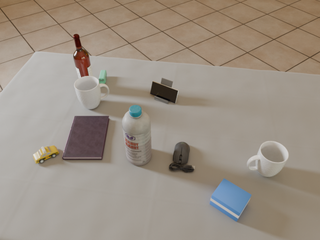book: (62, 116, 109, 160)
bottle: (122, 105, 152, 165), (73, 34, 93, 78)
box: (210, 179, 251, 221)
cup: (247, 141, 288, 177), (74, 76, 109, 109)
mouse: (169, 142, 195, 172)
phone: (150, 81, 179, 103)
toy_car: (33, 146, 59, 163), (99, 70, 107, 84)
